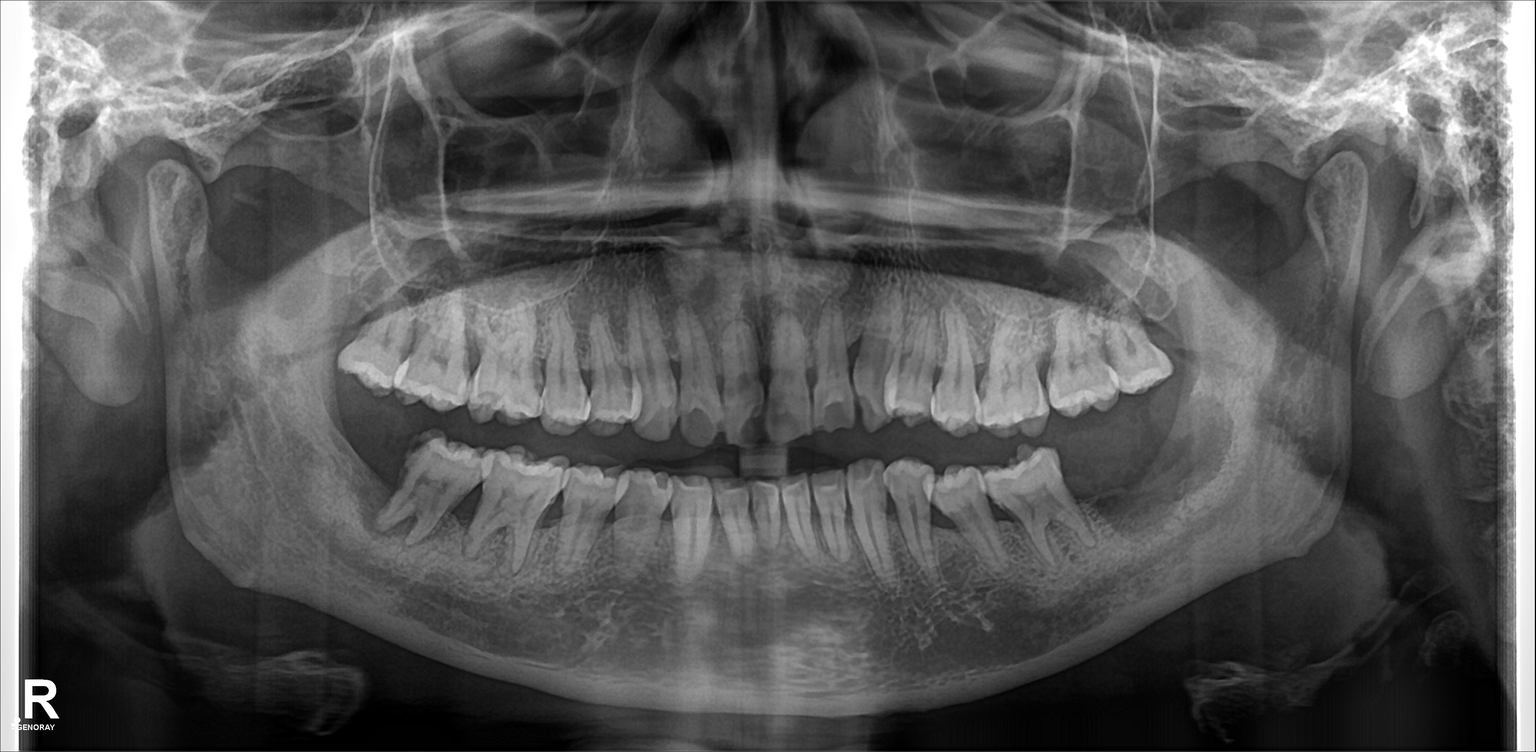Dental Caries: (818, 400, 855, 431)
Missing Tooth: (333, 419, 399, 508), (1140, 413, 1199, 511), (1073, 441, 1132, 518)
